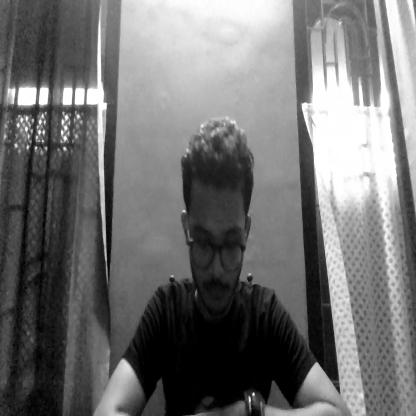Distracted: (173, 123, 257, 313)
